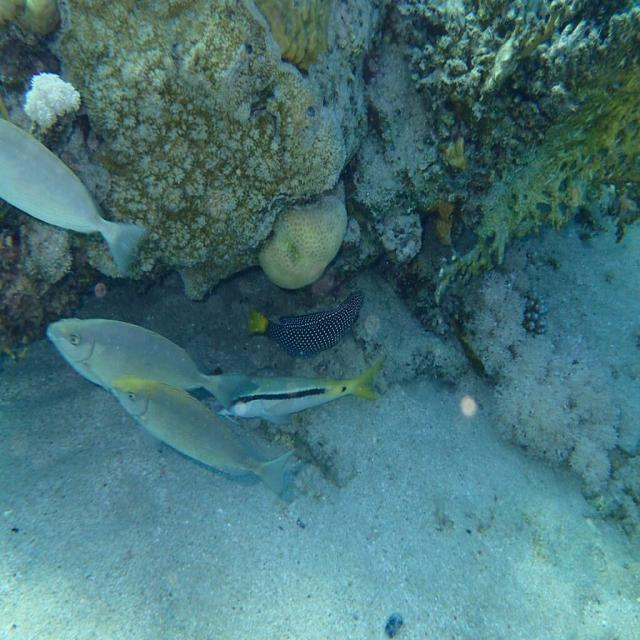Sokar Baligi: (38, 300, 260, 416)
